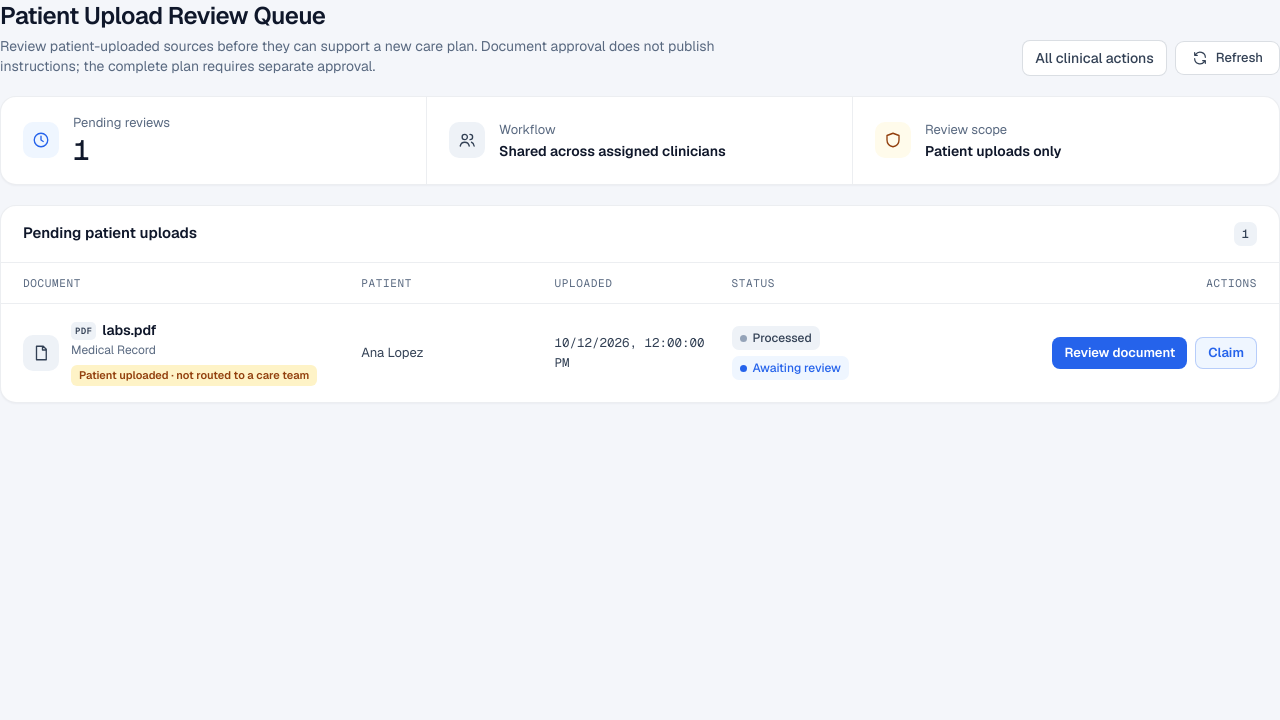
Test: claiming a Not sure upload › confirms before claiming, then unlocks review
This screenshot has width=1280, height=720.
Click the button with aria-label "Claim labs.pdf": (1226, 353) 1195,337 -> 1257,369
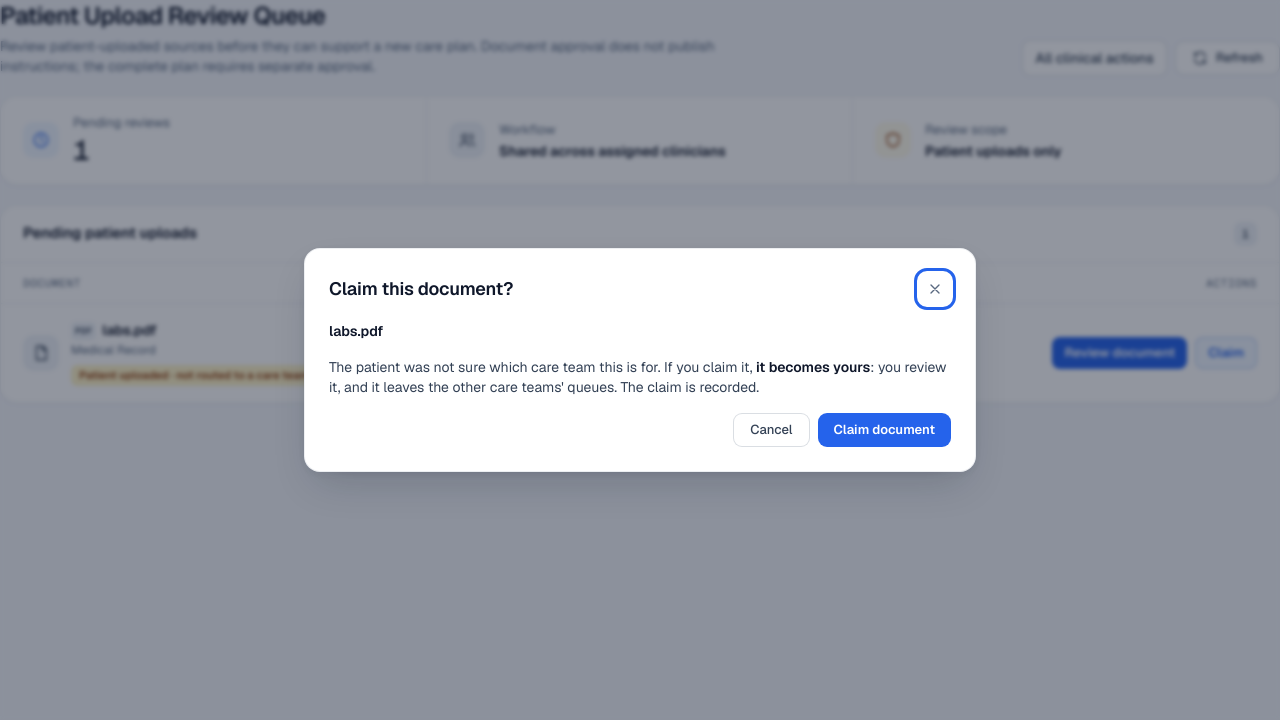
expect the dialog "Claim this document?" shows "it becomes yours": met, box 756,358 -> 870,376
Click the button "Claim document": (884, 430) 818,413 -> 951,447
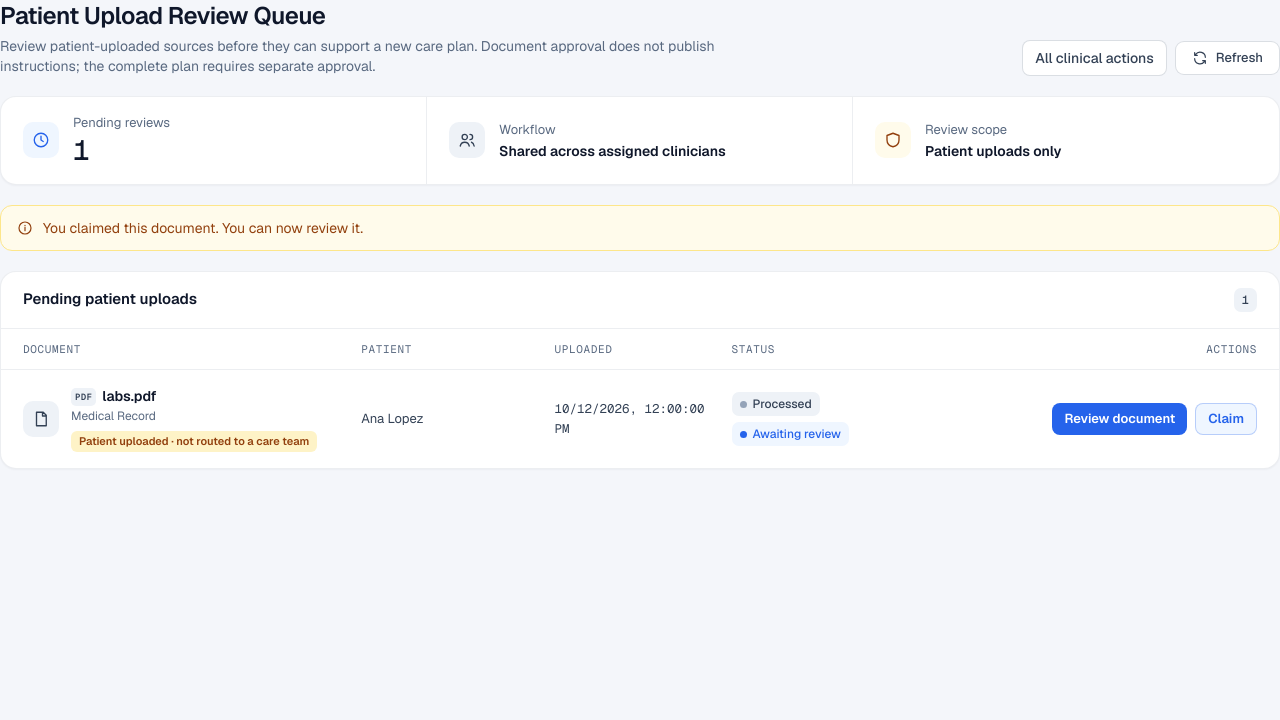
expect the text "You claimed this document. You can now review it." is shown: met, box 43,218 -> 363,238
